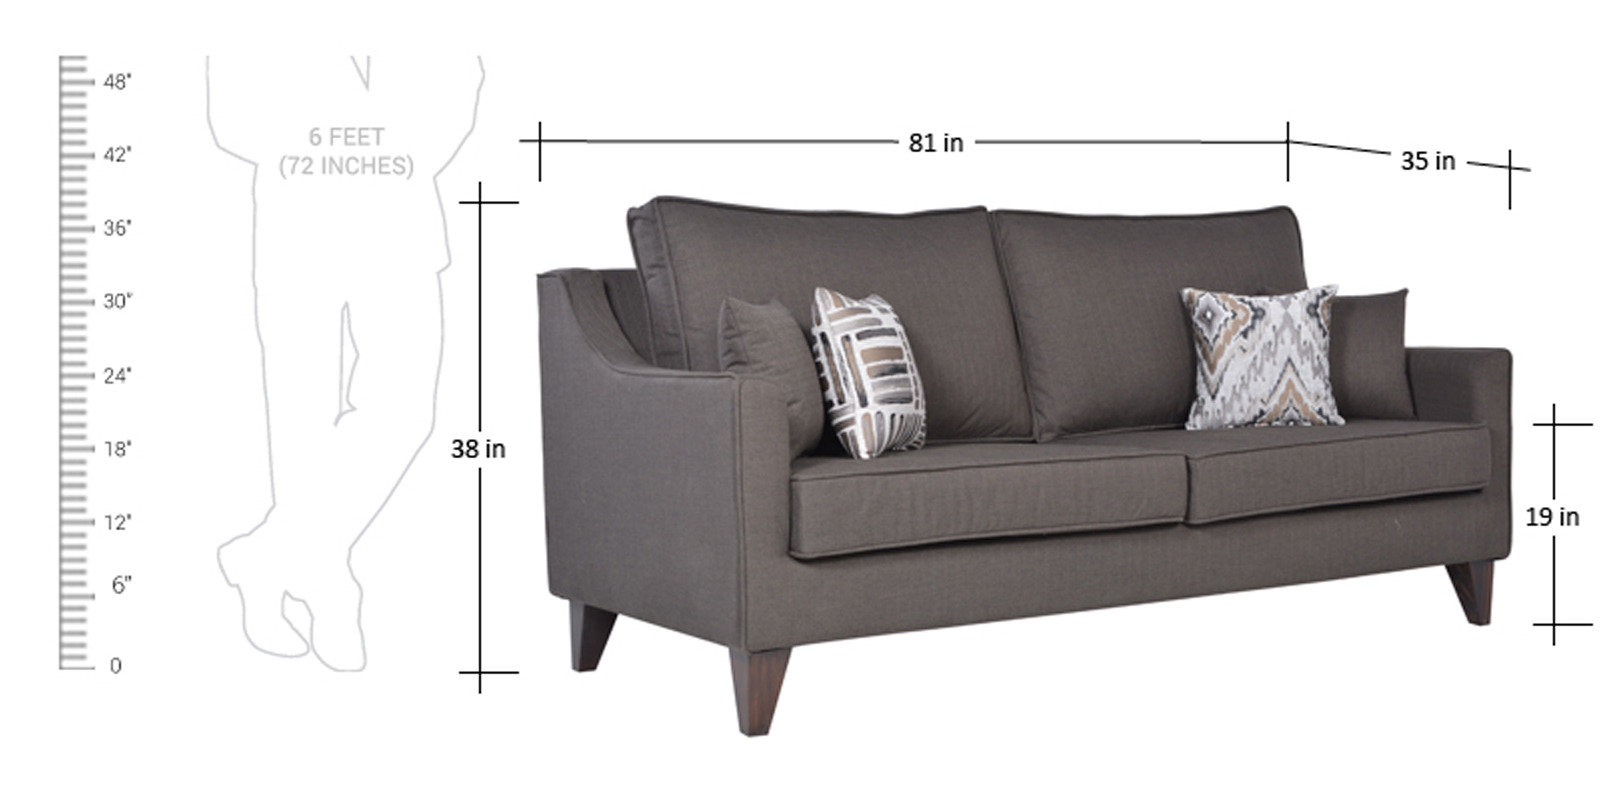Ithaca Impulse Three Seater Sofa with Throw Cushions in Charcoal Grey Colour by: (513, 187, 1545, 737)
